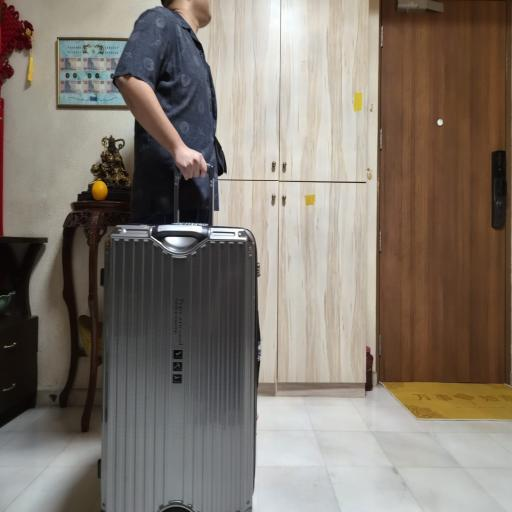person_right: (102, 2, 268, 510)
